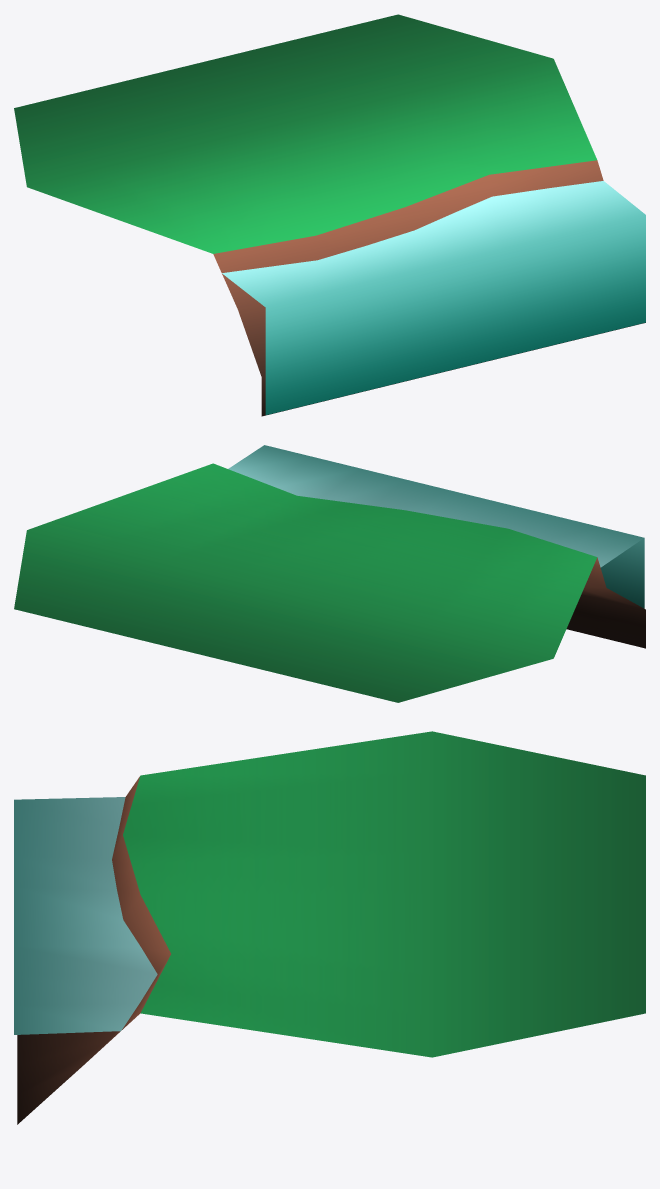
File: WaterTestingTerrain.fbx
The picture shows the model from 3 angles, top to bottom: view 1: azimuth 30°, elevation 25°; view 2: azimuth 150°, elevation 25°; view 3: azimuth 270°, elevation 25°; orthographic projection. The views are drawn at different scales.
Visible parts, largest first — view 1: WaterTestingTerrain; view 2: WaterTestingTerrain; view 3: WaterTestingTerrain.
Boxes of the visible parts, x1,y1,x2,y2 form: WaterTestingTerrain: (14,14,645,416); WaterTestingTerrain: (14,445,645,702); WaterTestingTerrain: (14,731,645,1124).
Bounding box in the file's own units: 372 × 85.68 × 305.
